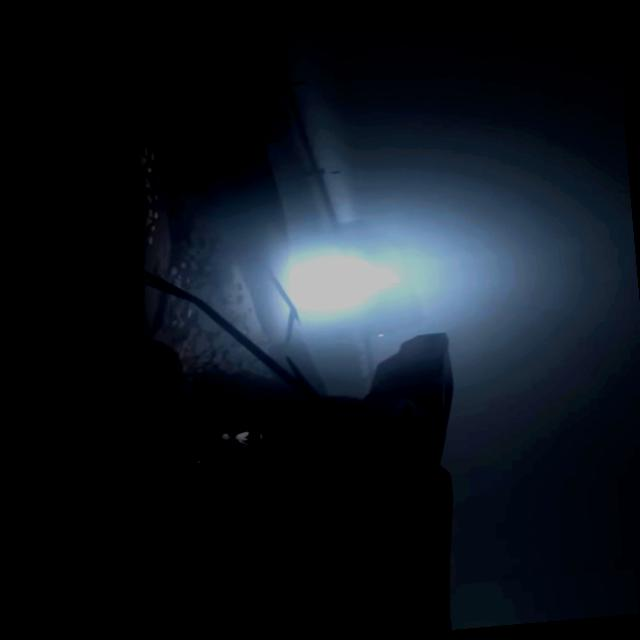boy: (188, 430, 262, 466)
